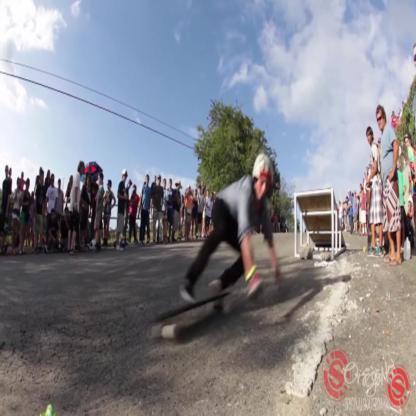Fall_Down: (177, 153, 284, 307)
